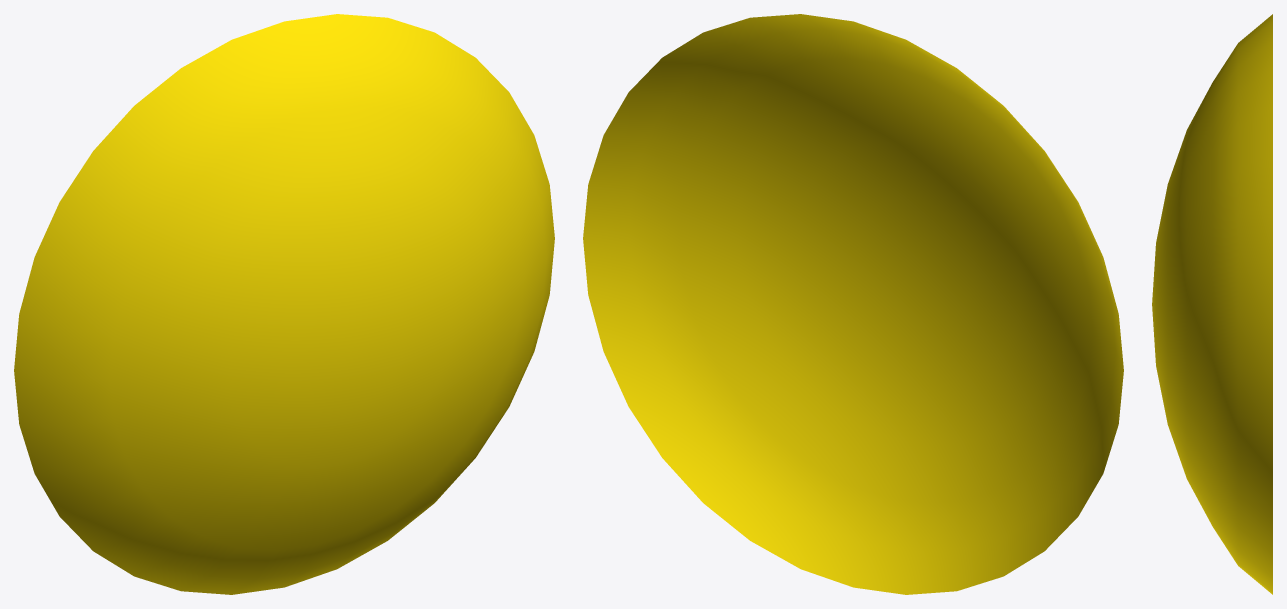
File: yellowon.glb
3 views of the same model, side by side, from view 1: azimuth 30°, elevation 25°; view 2: azimuth 150°, elevation 25°; view 3: azimuth 270°, elevation 25° (orthographic). The views are drawn at different scales.
Parts seen in each view (by area): view 1: Sphere.006; view 2: Sphere.006; view 3: Sphere.006.
Part boxes in pixels (x1,y1,x2,y2): Sphere.006: (14, 14, 554, 594); Sphere.006: (583, 14, 1123, 594); Sphere.006: (1152, 14, 1272, 594).
Size of the model in its own units: 0.2432 by 0.2432 by 0.0506.
